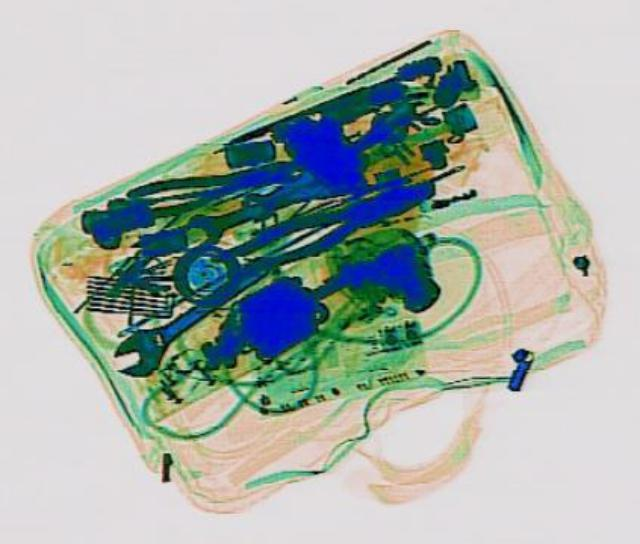Pliers: (205, 159, 445, 283), (122, 146, 304, 223)
Wrench: (94, 243, 286, 385), (175, 166, 323, 248)
